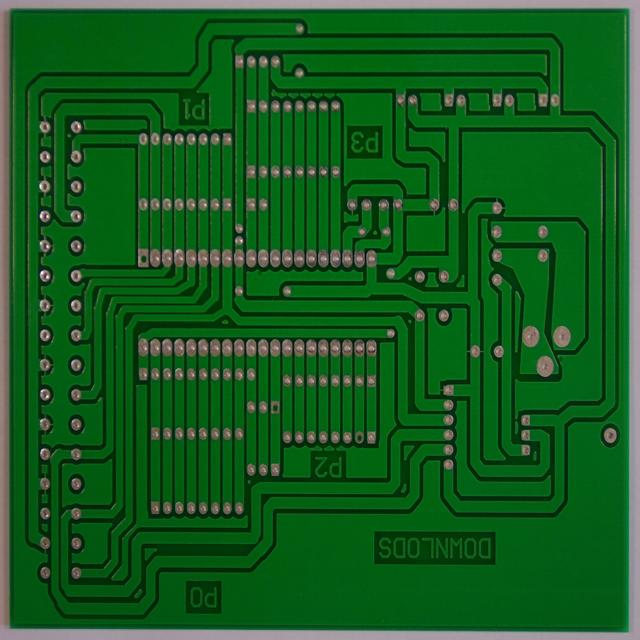missing_hole: (137, 248, 149, 269), (353, 429, 366, 445), (269, 400, 282, 414)
